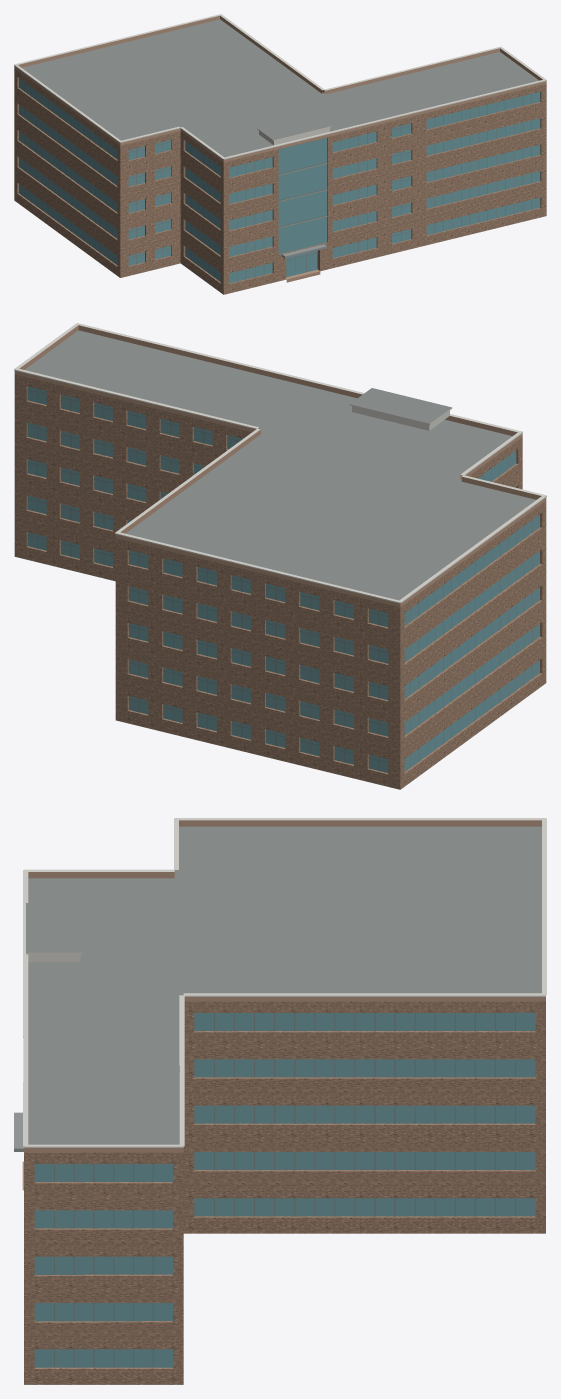
3 renders of one model, top to bottom at view 1: azimuth 30°, elevation 25°; view 2: azimuth 150°, elevation 25°; view 3: azimuth 270°, elevation 25°, orthographic. The views are drawn at different scales.
Parts seen in each view (by area): view 1: architecture__wall, architecture__roof, architecture__glass, architecture__parapet, architecture__trim, architecture__frame; view 2: architecture__wall, architecture__roof, architecture__glass, architecture__parapet, architecture__trim, architecture__frame; view 3: architecture__roof, architecture__wall, architecture__glass, architecture__trim, architecture__parapet, architecture__frame.
Boxes of the visible parts, bbox=[...] form: architecture__wall: bbox=[14, 68, 546, 294]; architecture__roof: bbox=[18, 19, 544, 294]; architecture__glass: bbox=[19, 78, 540, 283]; architecture__parapet: bbox=[14, 15, 546, 162]; architecture__trim: bbox=[14, 14, 546, 159]; architecture__frame: bbox=[24, 82, 531, 281]; architecture__wall: bbox=[14, 374, 546, 789]; architecture__roof: bbox=[15, 330, 545, 789]; architecture__glass: bbox=[27, 386, 539, 772]; architecture__parapet: bbox=[14, 325, 546, 607]; architecture__trim: bbox=[14, 323, 546, 603]; architecture__frame: bbox=[27, 388, 532, 770]; architecture__roof: bbox=[24, 826, 541, 1384]; architecture__wall: bbox=[24, 1001, 545, 1384]; architecture__glass: bbox=[34, 1012, 535, 1367]; architecture__trim: bbox=[23, 818, 546, 1147]; architecture__parapet: bbox=[24, 820, 545, 1152]; architecture__frame: bbox=[54, 1012, 515, 1367].
Bounding box in the file's own units: 54.73 × 19.7 × 37.51.
9 materials, 1 textured.
